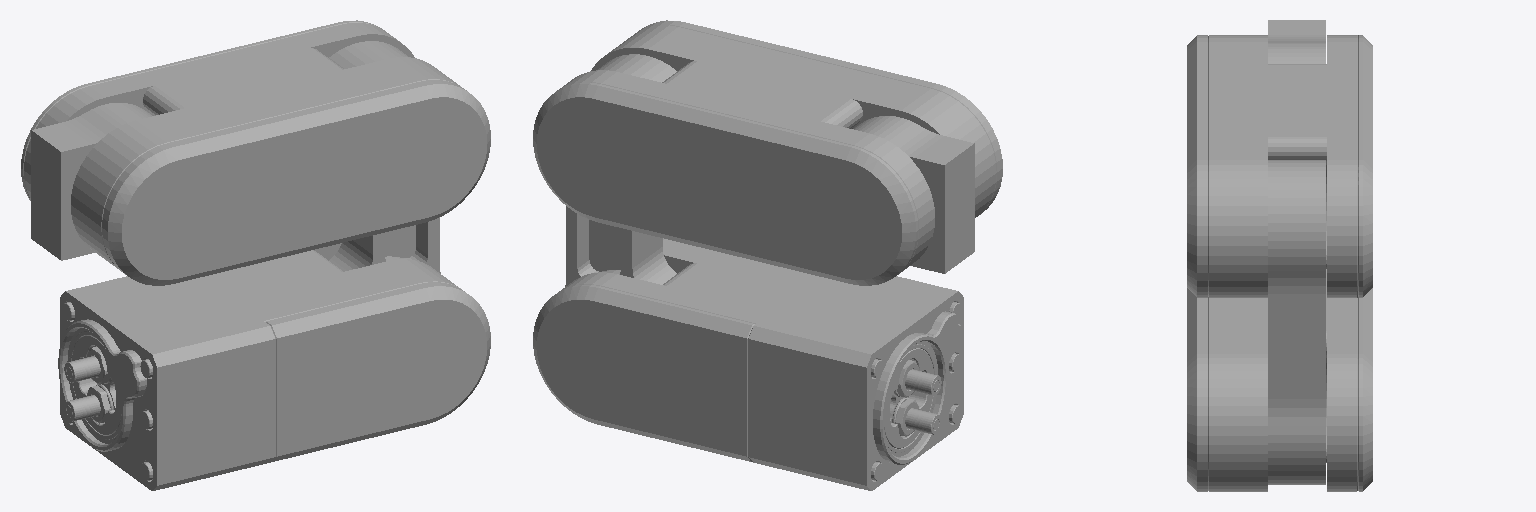
robot.urdf — arm61:
<?xml version="1.0"?>

<!-- URDF and models created by [author] 30-10-2023 -->

<robot name="arm61">

  <material name="blue">
    <color rgba="0 0 0.8 1"/>
  </material>

  <material name="black">
    <color rgba="0 0 0 1"/>
  </material>

  <material name="white">
    <color rgba="1 1 1 1"/>
  </material>

  <material name="grey">
    <color rgba="0.7 0.7 0.7 1"/>
  </material>

  <material name="amber">
    <color rgba="1 0.75 0 1"/>
  </material>

  <!-- LINKS -->
  <link name="base">
    <visual>
      <geometry>
        <mesh filename="package://arm61/urdf/lowPoly/base.stl" scale="0.001 0.001 0.001"/>
      </geometry>
      <origin rpy="0 0 0" xyz="0 0 0"/>
      <material name="grey"/>
    </visual>
  </link>

  <link name="shoulder">
    <visual>
      <geometry>
        <mesh filename="package://arm61/urdf/lowPoly/shoulder.stl" scale="0.001 0.001 0.001"/>
      </geometry>
      <origin rpy="0 0 0" xyz="0 0 0"/>
      <material name="grey"/>
    </visual>
  </link>

  <link name="elbow">
    <visual>
      <geometry>
        <mesh filename="package://arm61/urdf/lowPoly/elbow.stl" scale="0.001 0.001 0.001"/>
      </geometry>
      <origin rpy="0 0 0" xyz="0 0 0"/>
      <material name="grey"/>
    </visual>
  </link>

  <link name="wrist">
    <visual>
      <geometry>
        <mesh filename="package://arm61/urdf/lowPoly/wrist.stl" scale="0.001 0.001 0.001"/>
      </geometry>
      <origin rpy="0 0 0" xyz="0 0 0"/>
      <material name="grey"/>
    </visual>
  </link>

  <link name="endEffector">
    <visual>
      <geometry>
        <mesh filename="package://arm61/urdf/lowPoly/endEffector.stl" scale="0.001 0.001 0.001"/>
      </geometry>
      <origin rpy="0 0 0" xyz="0 0 0"/>
      <material name="grey"/>
    </visual>
  </link>

<!-- JOINTS -->

  <joint name="joint_1" type="revolute">
    <axis xyz="0 0 -1"/>
    <!-- Joint limits -65 deg to + 65 deg  -->
    <limit effort="1000.0" lower="-1.134464" upper="1.134464" velocity="0.5"/>
    <origin rpy="1.570796 0 0" xyz="0.025 0.0 0.0"/>
    <parent link="base"/>
    <child link="shoulder"/>
  </joint>

  <joint name="joint_2" type="revolute">
    <axis xyz="0 0 -1"/>
    <!-- Joint limits -155 deg to + 15 deg  -->
    <limit effort="1000.0" lower="-2.70526" upper="0.2617994" velocity="0.5"/>
    <origin rpy="0 0 -1.570796" xyz="0.085 0.0 0.0"/>
    <parent link="shoulder"/>
    <child link="elbow"/>
  </joint>

  <joint name="joint_3" type="revolute">
    <axis xyz="0 0 -1"/>
    <!-- Joint limits -155 deg to + 15 deg  -->
    <limit effort="1000.0" lower="-2.70526" upper="0.2617994" velocity="0.5"/>
    <origin rpy="0 0 -1.570796" xyz="0.065 0.0 0.0"/>
    <parent link="elbow"/>
    <child link="wrist"/>
  </joint>

  <joint name="joint_4" type="revolute">
    <axis xyz="0 0 -1"/>
    <!-- No joint limits but defined at +- 360 deg -->
    <limit effort="1000.0" lower="-6.283185" upper="6.283185" velocity="0.5"/>
    <origin rpy="1.570796 0 1.570796" xyz="0.086 0.0 0.0"/>
    <parent link="wrist"/>
    <child link="endEffector"/>
  </joint>

</robot>

--- What the picture shows (computed from the rendered views, not written in the file) ---
Views: 3 orthographic renders of the robot side by side, from view 1: azimuth 30°, elevation 25°; view 2: azimuth 150°, elevation 25°; view 3: azimuth 270°, elevation 25°.
Model arm61 with 5 links and 4 joints (4 revolute), rooted at base, posed all joints at 0.
Visible links, largest first — view 1: shoulder, wrist, base, elbow, endEffector; view 2: shoulder, wrist, base, elbow, endEffector; view 3: shoulder, wrist, elbow, base.
Link boxes in pixels (x1=…): shoulder: x1=21, y1=20, x2=490, y2=285; wrist: x1=58, y1=243, x2=490, y2=490; base: x1=31, y1=103, x2=151, y2=260; elbow: x1=329, y1=41, x2=440, y2=273; endEffector: x1=64, y1=335, x2=121, y2=435; shoulder: x1=533, y1=20, x2=1002, y2=285; wrist: x1=533, y1=238, x2=963, y2=490; base: x1=854, y1=116, x2=974, y2=273; elbow: x1=565, y1=54, x2=676, y2=286; endEffector: x1=884, y1=348, x2=941, y2=448; shoulder: x1=1187, y1=35, x2=1372, y2=297; wrist: x1=1187, y1=269, x2=1372, y2=491; elbow: x1=1268, y1=160, x2=1325, y2=484; base: x1=1268, y1=20, x2=1325, y2=63.
Bounding box of the posed robot: 0.132 × 0.0565 × 0.109 m (x, y, z).
5 mesh visuals loaded from 5 distinct referenced files (5 binary STL).
